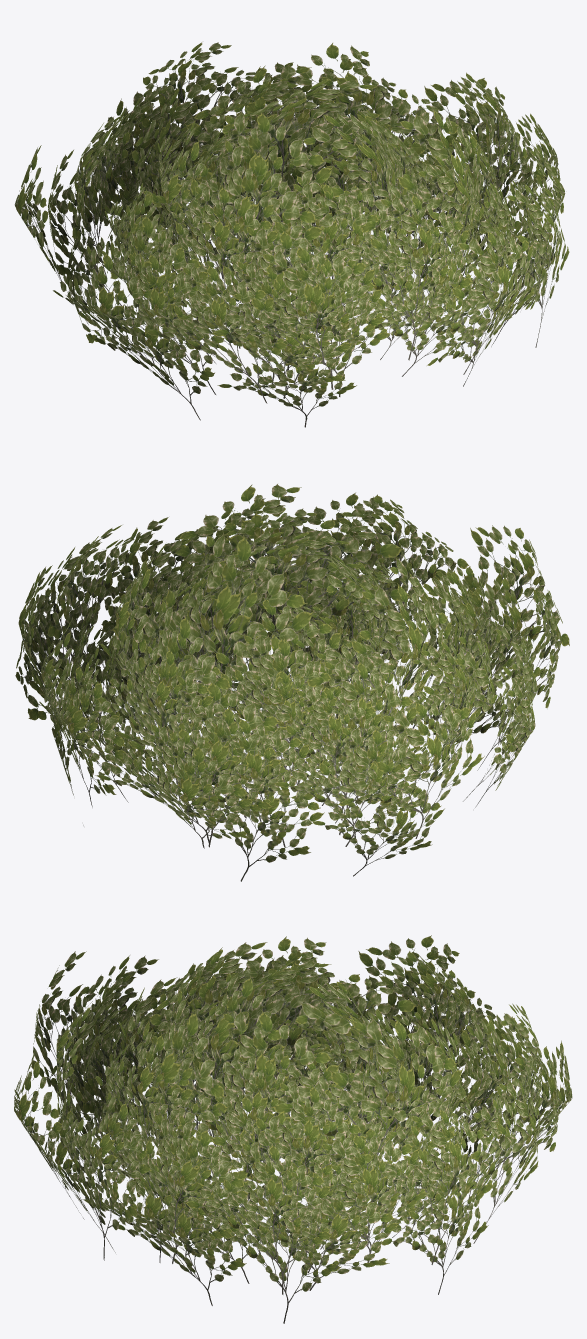
Rendered from MB_Bush_03.fbx.
3 views of the same model, one above another, from view 1: azimuth 30°, elevation 25°; view 2: azimuth 150°, elevation 25°; view 3: azimuth 270°, elevation 25° (orthographic).
Visible parts, largest first — view 1: MB_Bush_03_LOD0; view 2: MB_Bush_03_LOD0; view 3: MB_Bush_03_LOD0.
Part boxes in pixels (x1=…): MB_Bush_03_LOD0: x1=14, y1=42, x2=569, y2=427; MB_Bush_03_LOD0: x1=15, y1=484, x2=569, y2=881; MB_Bush_03_LOD0: x1=14, y1=935, x2=572, y2=1323.
Size of what is drawn, in the model's own units: 308 by 194 by 318.
